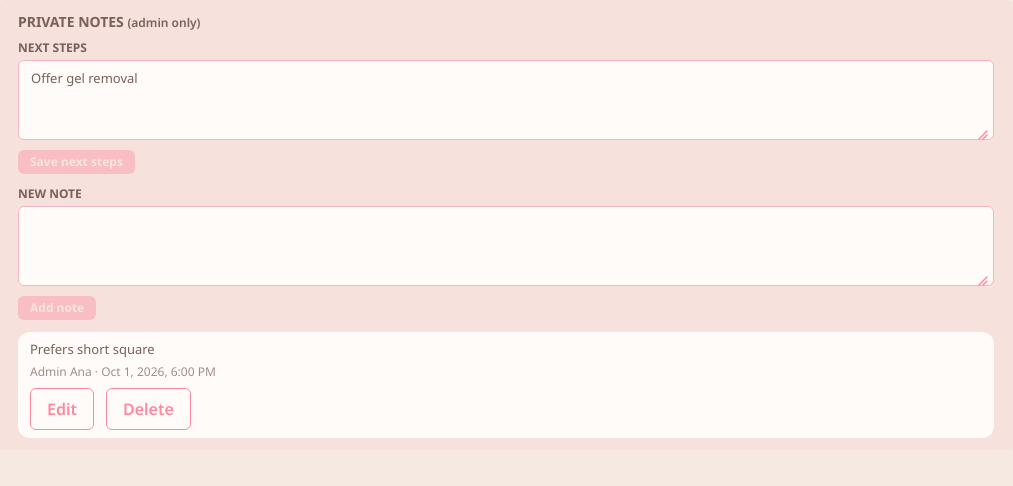
Scenario: ClientNotesPanel › shows a message when saving fails
The width and height of the screenshot is (1013, 486).
Type " more" into the text box labelled "Next steps".
click(506, 100); type(" more")  # box [18,60,994,140]
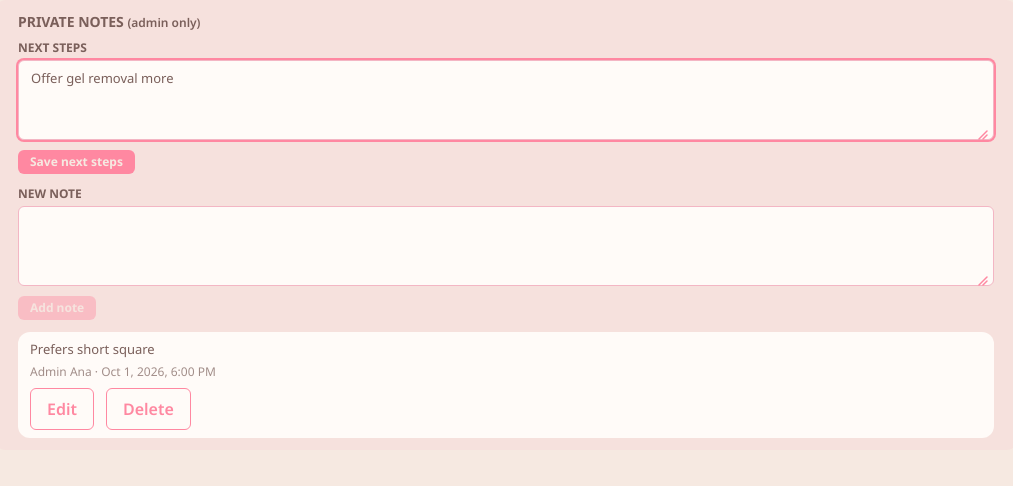
Click the button "Save next steps".
click(76, 162)  # box [18,150,135,174]
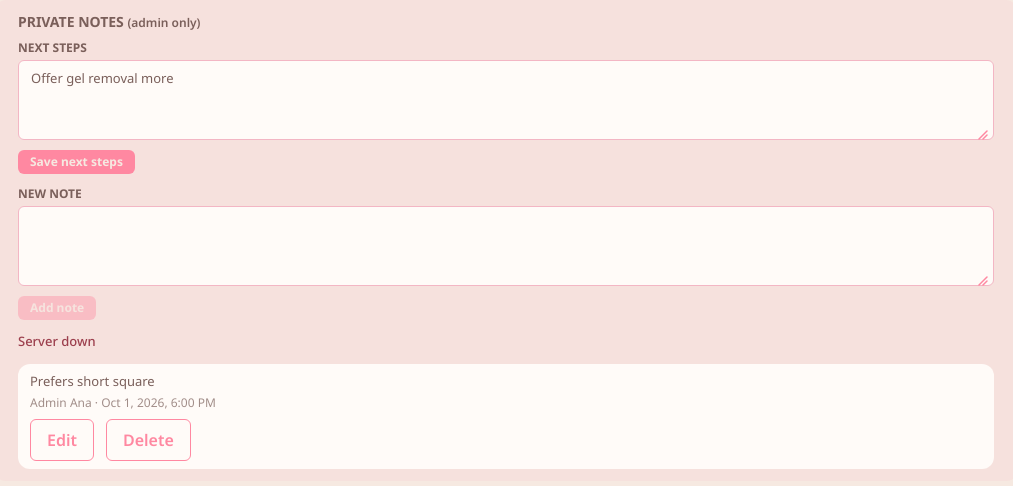
Expected: the message reads "Server down", [18,332,96,350]
